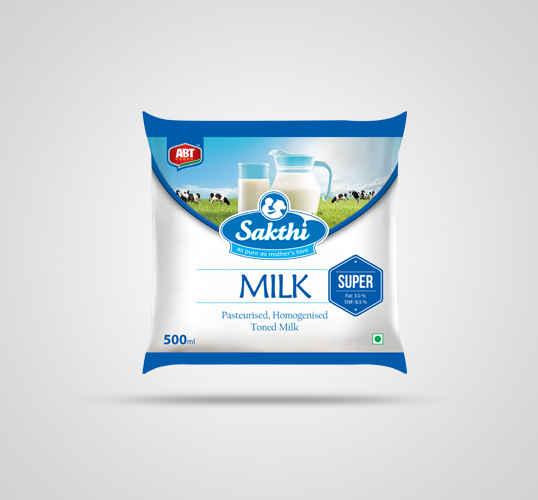VEG: (372, 334, 384, 345)
